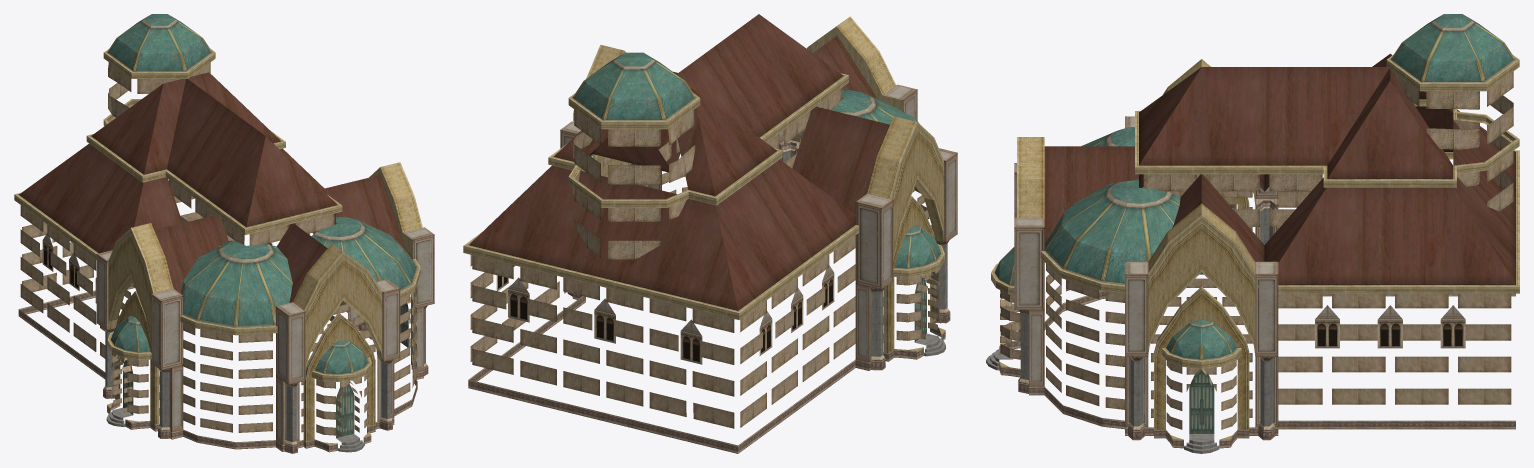
Rendered from thm_nboo_thed_imprv_building_s03_l1.fbx.
3 views of the same model, side by side, from view 1: azimuth 30°, elevation 25°; view 2: azimuth 150°, elevation 25°; view 3: azimuth 270°, elevation 25° (orthographic). The views are drawn at different scales.
Parts seen in each view (by area): view 1: mesh_node; view 2: mesh_node; view 3: mesh_node.
Boxes of the visible parts, x1,y1,x2,y2 form: mesh_node: (14,14,434,453); mesh_node: (463,14,957,453); mesh_node: (986,14,1519,453).
Size of the model in its own units: 38.59 by 34.05 by 47.76.
